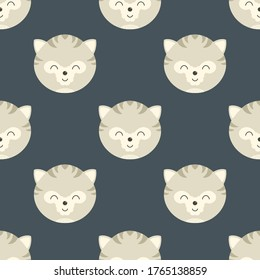cat: (28, 160, 101, 223), (31, 32, 100, 95), (162, 32, 230, 95), (97, 100, 163, 161), (161, 163, 231, 220), (1, 99, 34, 160)
